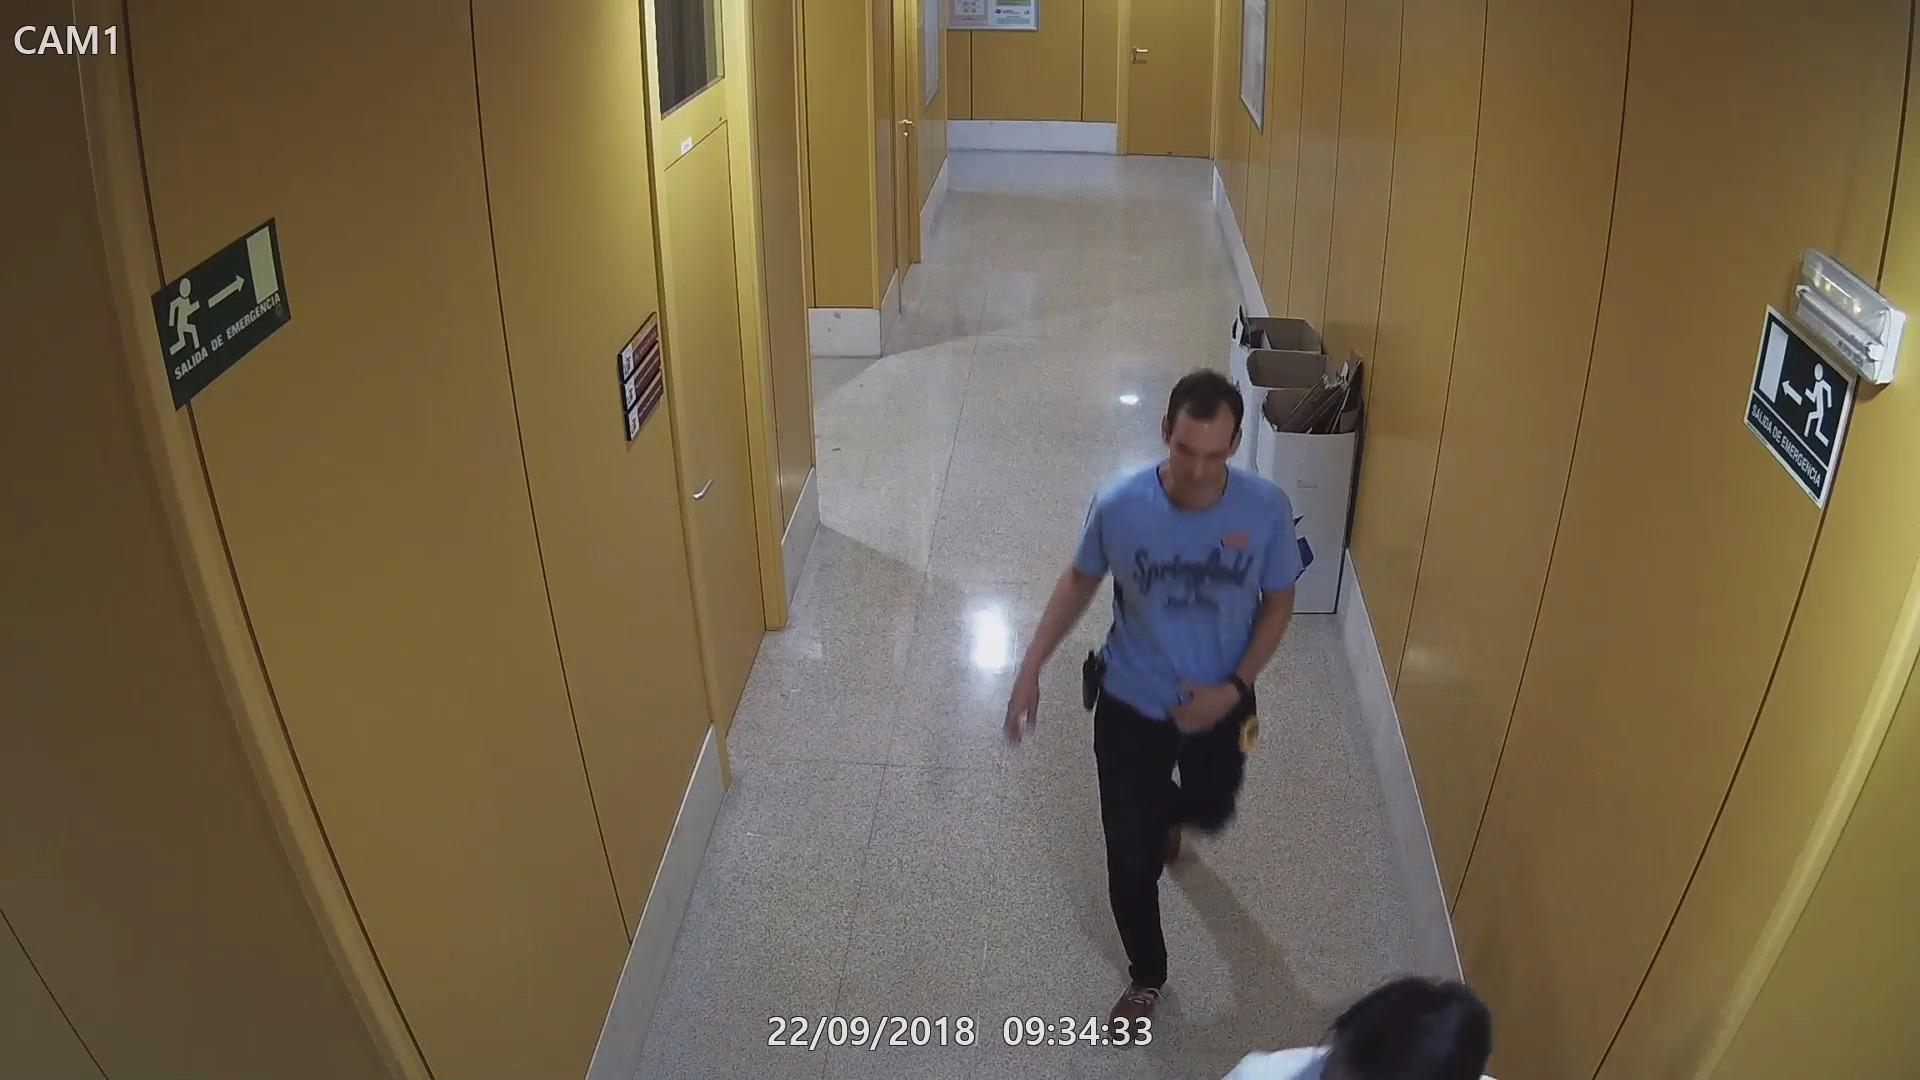Handgun: (1075, 646, 1102, 716)
